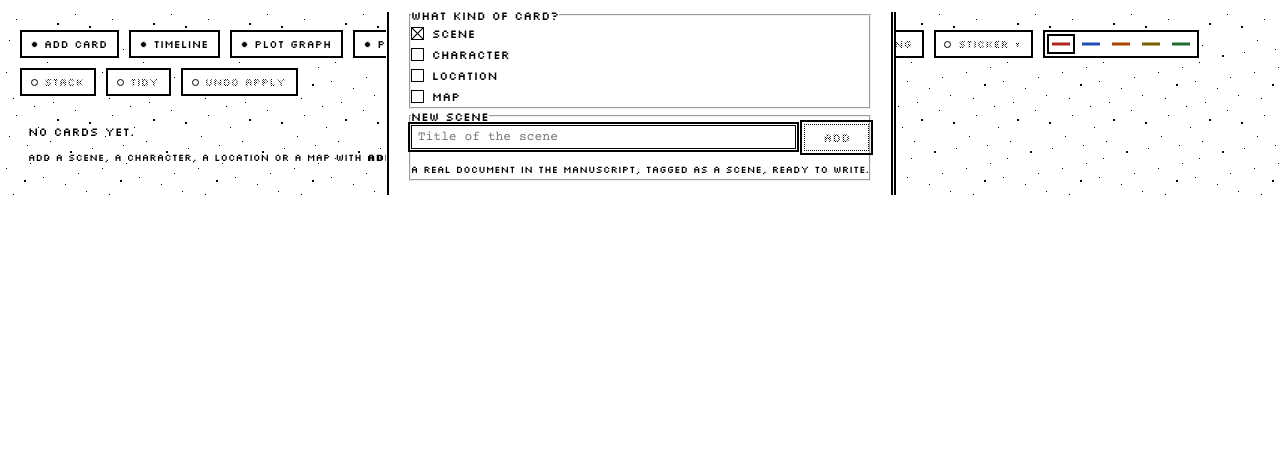
Test: minimap cards › is added from Add Card, new or already drawn, and a second of a name is said
Click the radio button labelled "Map".
click(417, 96)  # box [411, 86, 869, 106]
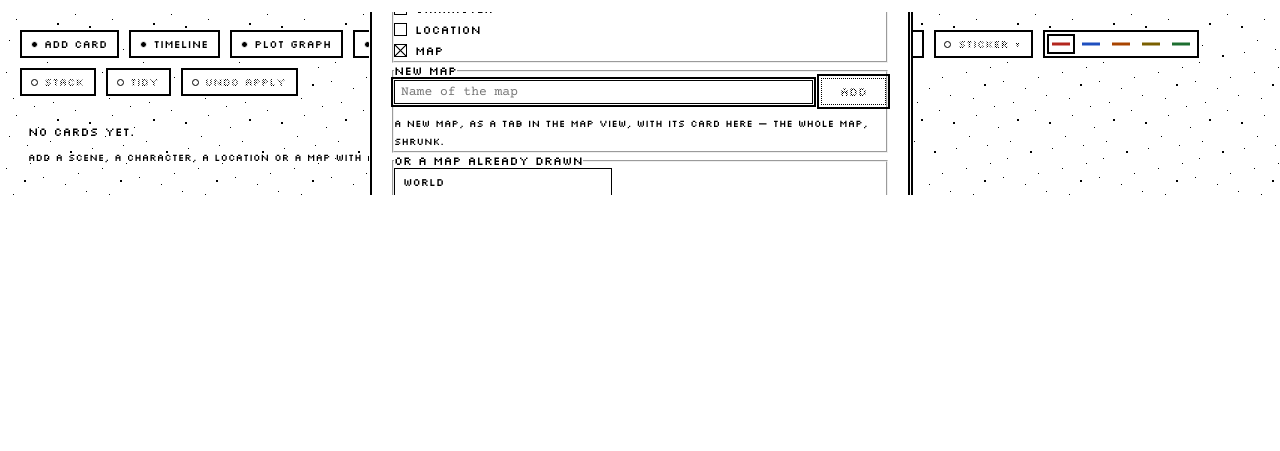
Type "port cray" into the field with placeholder "Name of the map".
click(604, 92); type("port cray")  # box [394, 80, 813, 104]
Click the button "Add".
click(854, 92)  # box [821, 78, 886, 105]
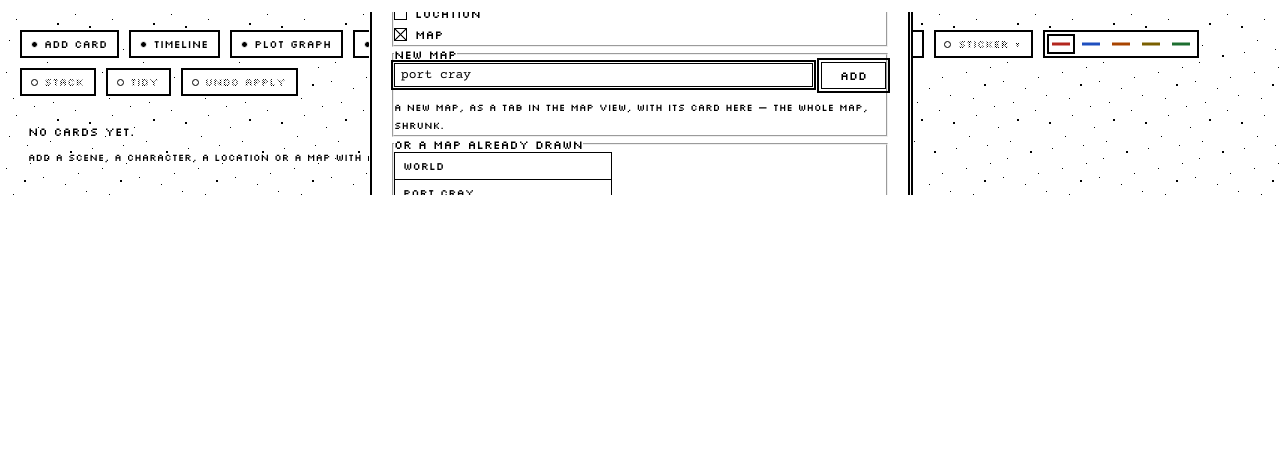
Result: the field with placeholder "Name of the map" is marked as invalid at [394, 63, 813, 87]
Result: the field with placeholder "Name of the map" has attribute aria-describedby="add-card-error" at [394, 63, 813, 87]
Click the button "Port Cray".
click(503, 193)  # box [395, 180, 611, 206]
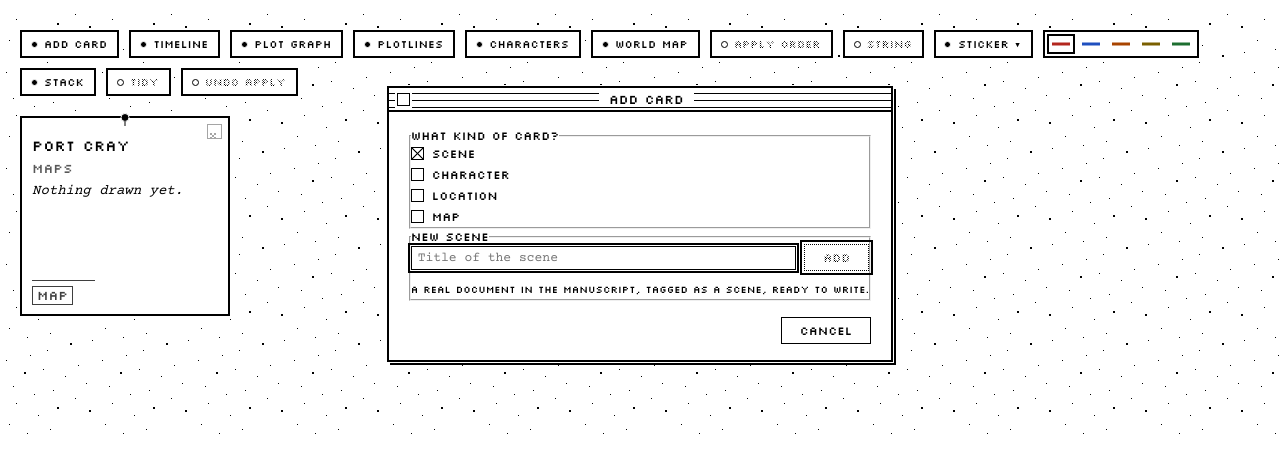
Result: the button with aria-label "Open the map Port Cray" is shown at [22, 128, 228, 314]
Click the radio button labelled "Map".
click(417, 216)  # box [411, 206, 869, 227]
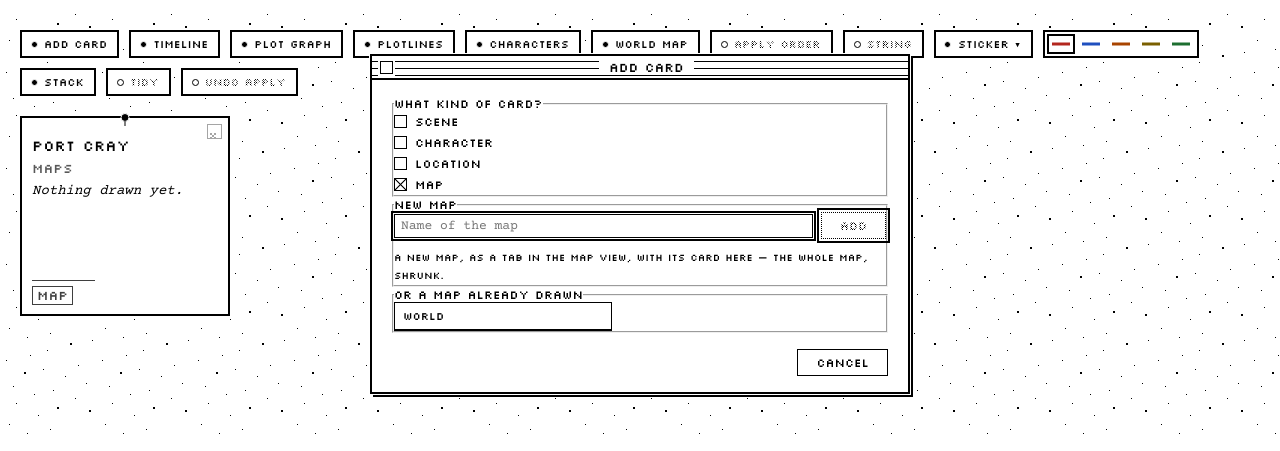
Type "The Fens" into the field with placeholder "Name of the map".
click(604, 226); type("The Fens")  # box [394, 214, 813, 238]
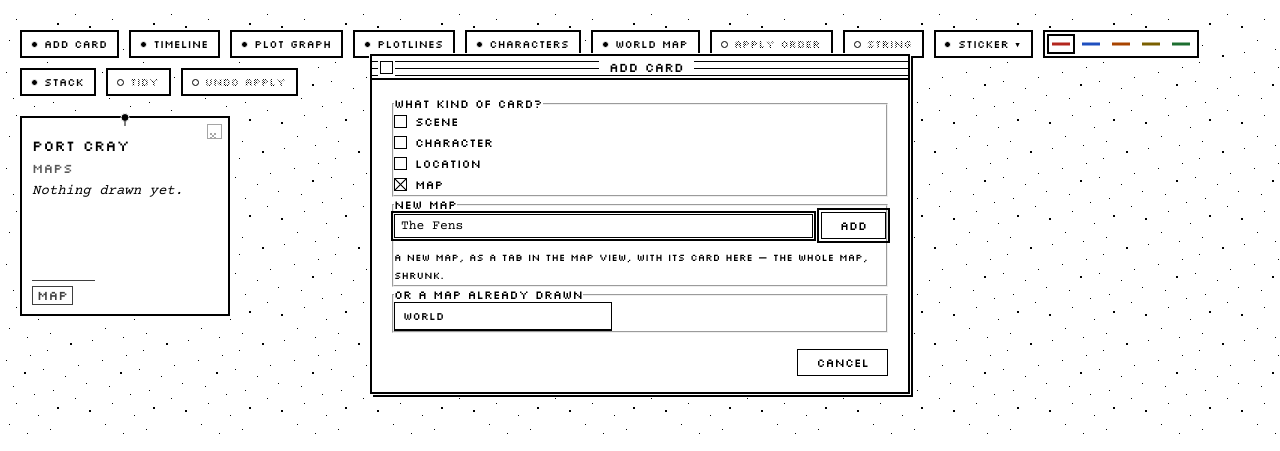
Click the button "Add".
click(854, 226)  # box [821, 212, 886, 239]
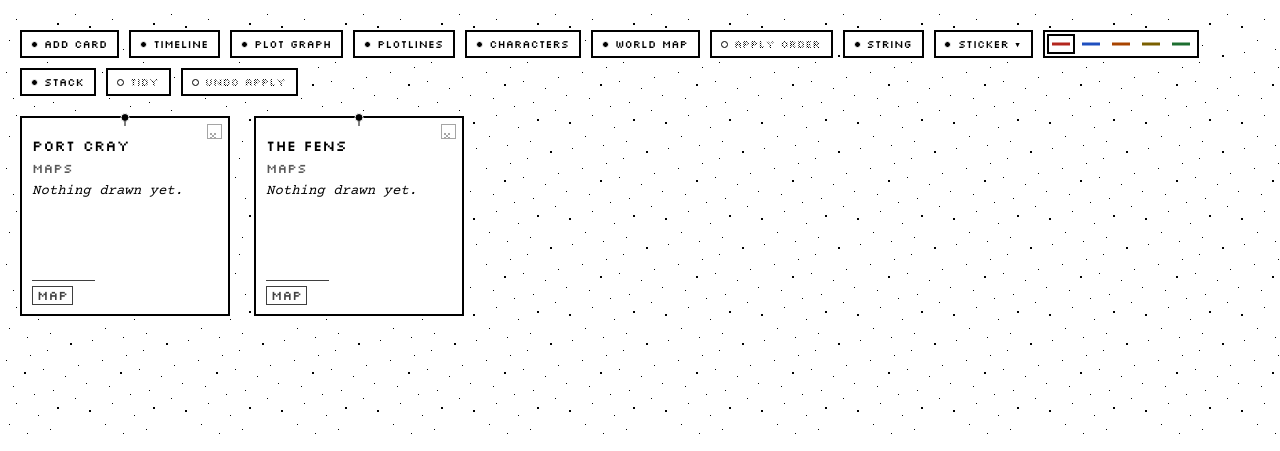
Result: the button with aria-label "Open the map The Fens" is shown at [256, 128, 462, 314]
